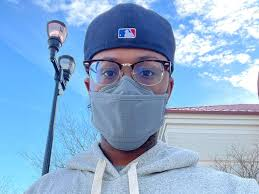FaceMask: (90, 92, 168, 150)
